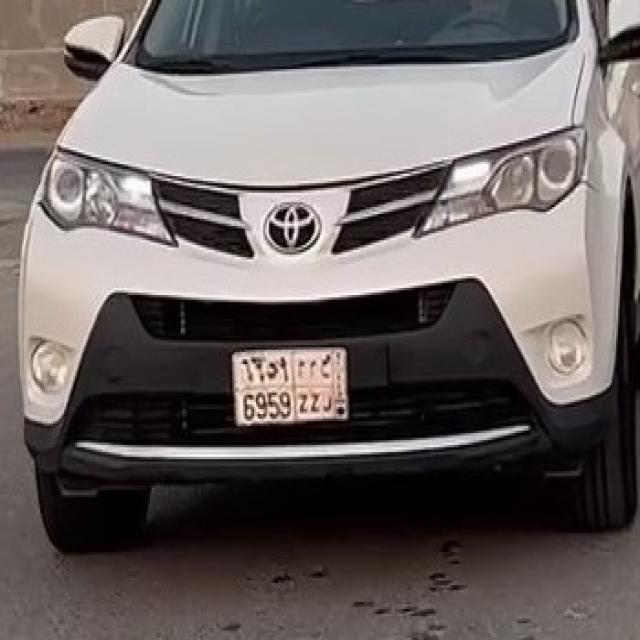Car-plate: (217, 329, 367, 435)
